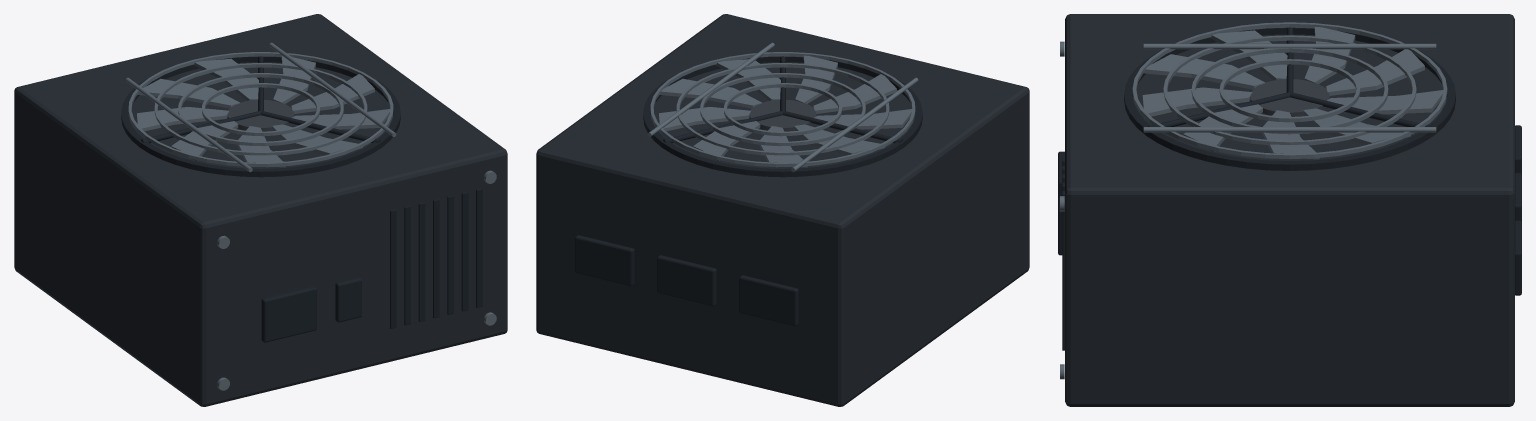
Rendered from psu.glb.
The picture shows the model from 3 angles, left to right: view 1: azimuth 30°, elevation 25°; view 2: azimuth 150°, elevation 25°; view 3: azimuth 270°, elevation 25°; orthographic projection. The views are drawn at different scales.
Parts seen in each view (by area): view 1: PSU_Paint_Charcoal, PSU_Plastic_Black, PSU_Metal_Dark_Steel, PSU_Fan_Rotor.001, PSU_Paint_Graphite; view 2: PSU_Paint_Charcoal, PSU_Plastic_Black, PSU_Metal_Dark_Steel, PSU_Fan_Rotor.001, PSU_Paint_Graphite; view 3: PSU_Paint_Charcoal, PSU_Metal_Dark_Steel, PSU_Fan_Rotor.001, PSU_Plastic_Black, PSU_Paint_Graphite.
Boxes of the visible parts, bbox=[...] form: PSU_Paint_Charcoal: bbox=[14, 14, 507, 406]; PSU_Plastic_Black: bbox=[121, 56, 482, 342]; PSU_Metal_Dark_Steel: bbox=[125, 42, 496, 390]; PSU_Fan_Rotor.001: bbox=[137, 56, 389, 167]; PSU_Paint_Graphite: bbox=[227, 100, 294, 131]; PSU_Paint_Charcoal: bbox=[536, 14, 1029, 406]; PSU_Plastic_Black: bbox=[575, 56, 922, 326]; PSU_Metal_Dark_Steel: bbox=[647, 42, 918, 172]; PSU_Fan_Rotor.001: bbox=[659, 55, 912, 167]; PSU_Paint_Graphite: bbox=[749, 100, 816, 131]; PSU_Paint_Charcoal: bbox=[1065, 14, 1514, 406]; PSU_Metal_Dark_Steel: bbox=[1060, 22, 1447, 379]; PSU_Fan_Rotor.001: bbox=[1142, 26, 1443, 159]; PSU_Plastic_Black: bbox=[1058, 27, 1521, 350]; PSU_Paint_Graphite: bbox=[1250, 79, 1329, 116].
Bounding box in the file's own units: 0.15 × 0.092 × 0.165.
